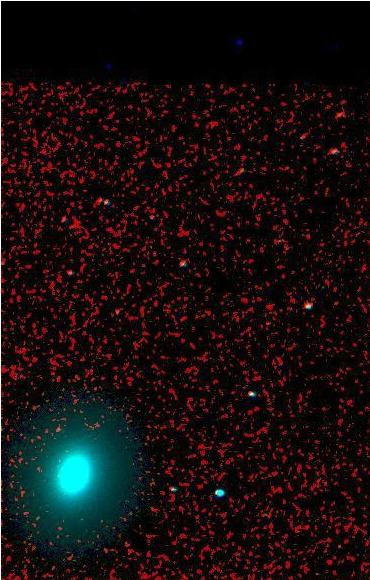star: (43, 411, 73, 441)
